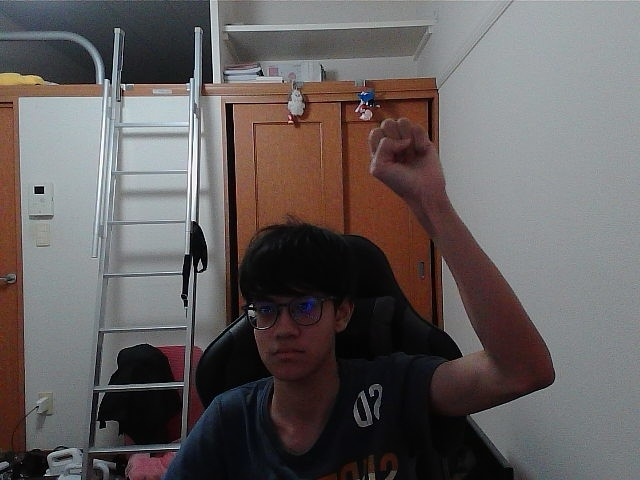closed_palm: (378, 123, 426, 191)
